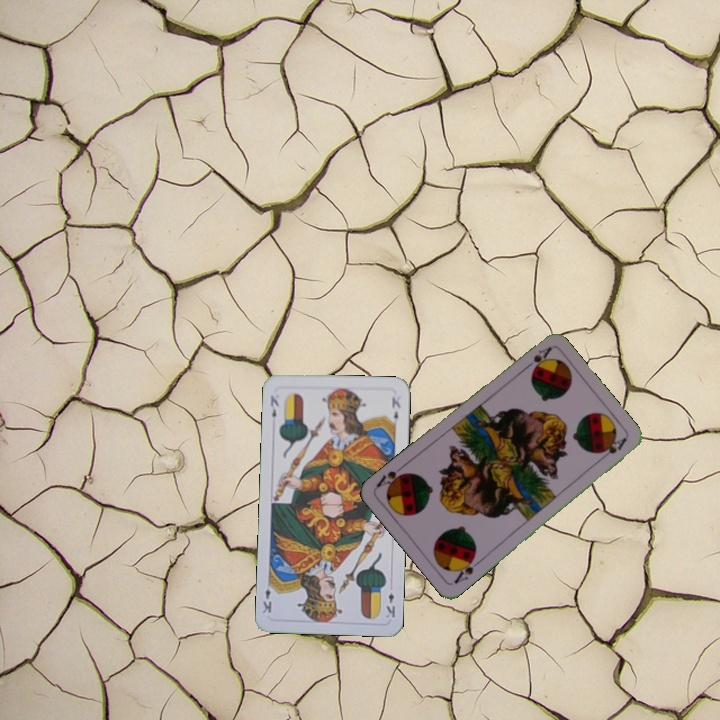EK: (382, 588, 398, 620), (266, 391, 281, 420)
SA: (450, 552, 484, 587), (519, 343, 554, 373)
